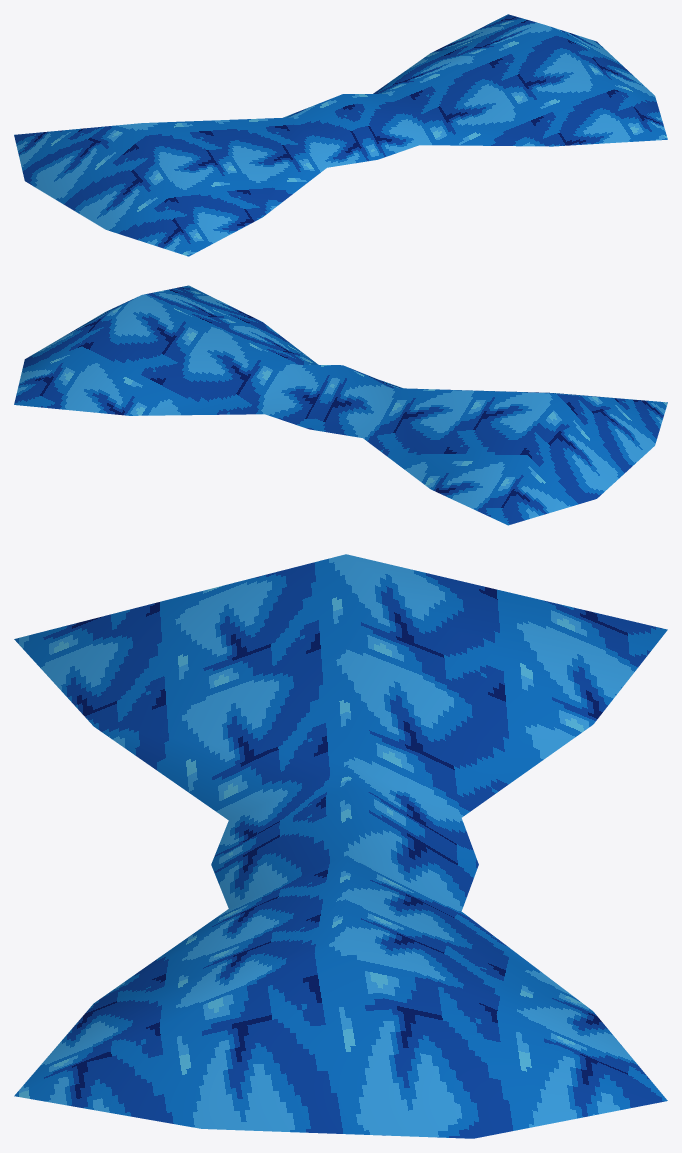
The model's file is 2941head091_c.gltf.
The picture shows the model from 3 angles, top to bottom: view 1: azimuth 30°, elevation 25°; view 2: azimuth 150°, elevation 25°; view 3: azimuth 270°, elevation 25°; orthographic projection. The views are drawn at different scales.
Visible parts, largest first — view 1: 2941head091_c; view 2: 2941head091_c; view 3: 2941head091_c.
Part boxes in pixels (<box>): 2941head091_c: <box>14,14,667,256</box>; 2941head091_c: <box>14,285,667,525</box>; 2941head091_c: <box>14,554,667,1138</box>.
Size of the model in its own units: 0.8569 by 0.0891 by 0.4341.
Materials: 1 (1 with a texture image).
